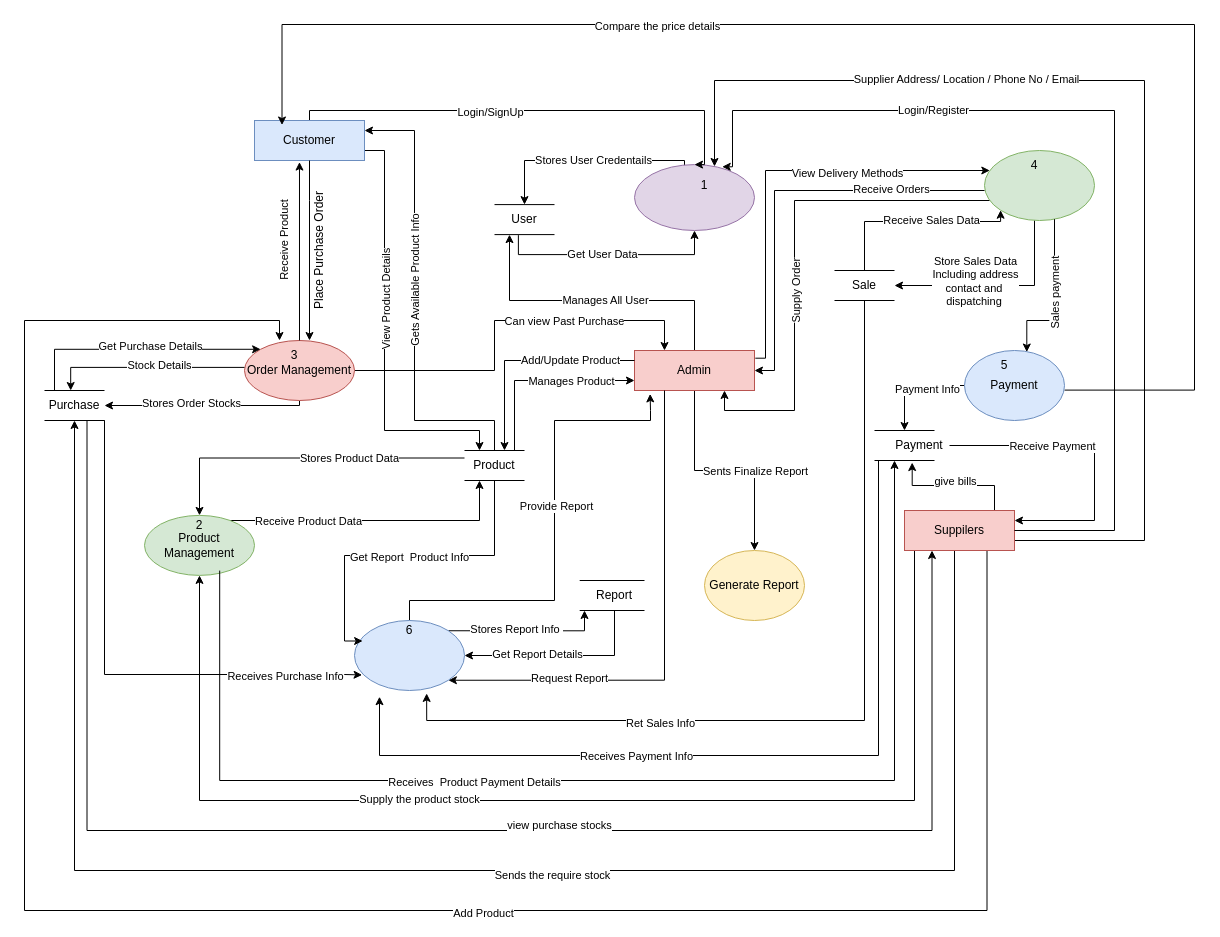
The diagram is 1220 pixels wide and 937 high, and some of its shapes have lost their labels. Here are the shapes that lost their labels. From the top down, the box of each, then its label:
(634, 164, 754, 230): User Management
(984, 150, 1094, 220): Sales management
(354, 620, 464, 690): Report Management
